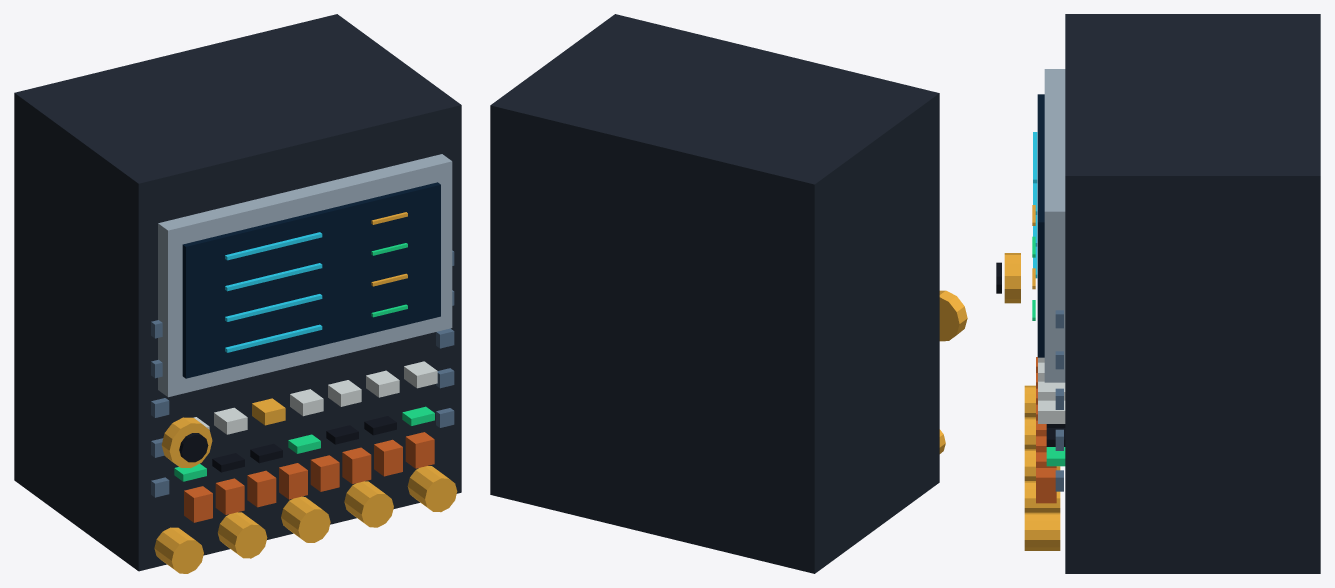
The model's file is 70_L86_RobotMotorPowerDistributionUnit.fbx.
3 views of the same model, side by side, from view 1: azimuth 30°, elevation 25°; view 2: azimuth 150°, elevation 25°; view 3: azimuth 270°, elevation 25° (orthographic). The views are drawn at different scales.
Visible parts, largest first — view 1: L86_RobotMotorPowerDistributionUnit, L86_RobotMotorPowerDistributionUnit_Part_0010, L86_RobotMotorPowerDistributionUnit_Part_0011; view 2: L86_RobotMotorPowerDistributionUnit, L86_RobotMotorPowerDistributionUnit_Part_0010; view 3: L86_RobotMotorPowerDistributionUnit, L86_RobotMotorPowerDistributionUnit_Part_0010.
Boxes of the visible parts, x1,y1,x2,y2 form: L86_RobotMotorPowerDistributionUnit: (14,14,461,573); L86_RobotMotorPowerDistributionUnit_Part_0010: (161,417,212,468); L86_RobotMotorPowerDistributionUnit_Part_0011: (179,433,208,462); L86_RobotMotorPowerDistributionUnit: (490,14,945,573); L86_RobotMotorPowerDistributionUnit_Part_0010: (939,290,967,341); L86_RobotMotorPowerDistributionUnit: (1024,14,1320,573); L86_RobotMotorPowerDistributionUnit_Part_0010: (1004,253,1020,303).
Size of the model in its own units: 97.92 by 112 by 82.84.
